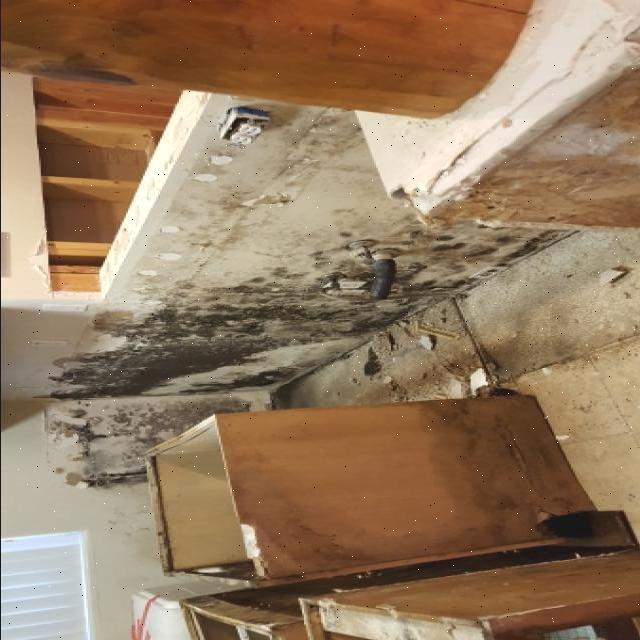dampens: (198, 99, 535, 434), (26, 325, 556, 445)
